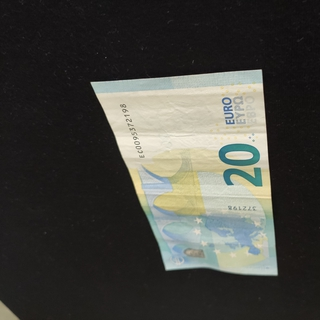20EUROBack: (90, 69, 278, 277)
